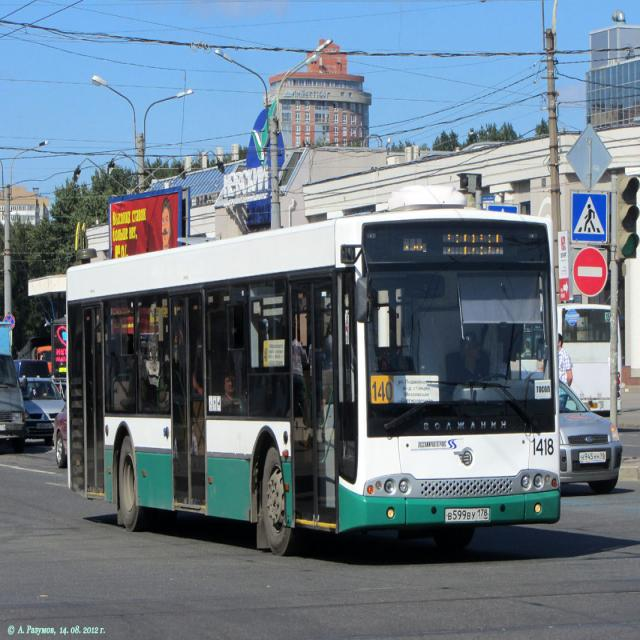number-of-bus: (372, 378, 396, 405)
